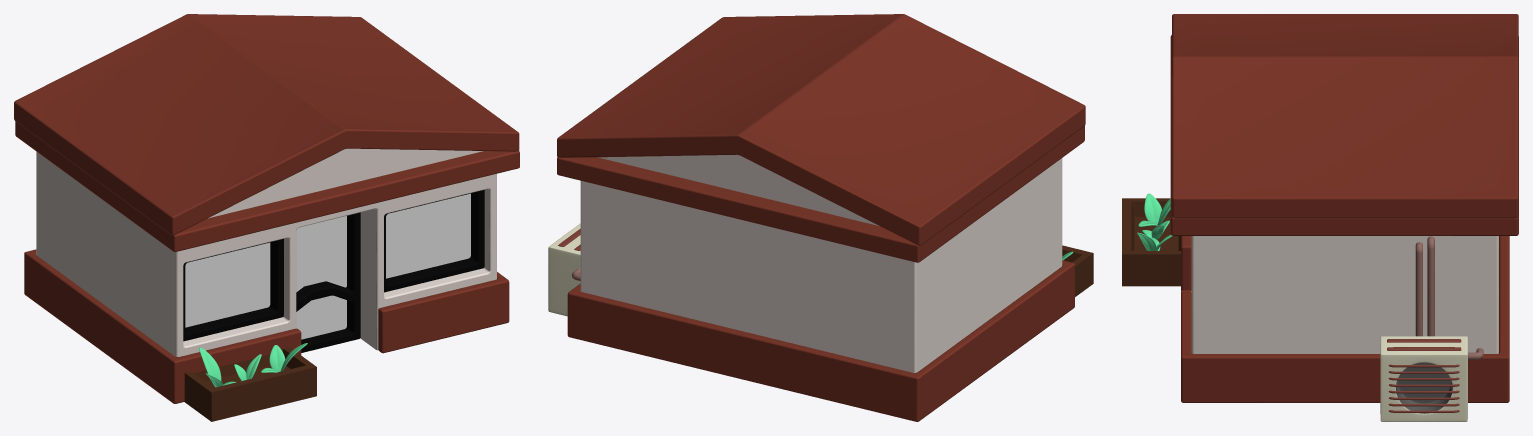
The model's file is Home2.fbx.
3 views of the same model, side by side, from view 1: azimuth 30°, elevation 25°; view 2: azimuth 150°, elevation 25°; view 3: azimuth 270°, elevation 25° (orthographic). The views are drawn at different scales.
Parts seen in each view (by area): view 1: Plane.005, Home, Plane.008, Plane.003, Pot, Plane.006, Plane.007, Grass; view 2: Plane.005, Home, Plane.008, Plane.003, Comair, Pot; view 3: Plane.005, Home, Plane.008, Plane.003, Comair, Pot, pipe, Plane.011, Grass.
Boxes of the visible parts, box(x1,y1,x2,y2) form: Plane.005: box(14, 14, 519, 235); Home: box(36, 148, 496, 356); Plane.008: box(24, 249, 509, 403); Plane.003: box(15, 121, 519, 251); Pot: box(184, 347, 316, 421); Plane.006: box(183, 190, 484, 341); Plane.007: box(296, 212, 360, 352); Grass: box(199, 343, 307, 387); Plane.005: box(557, 14, 1085, 245); Home: box(580, 154, 1062, 372); Plane.008: box(567, 260, 1074, 421); Plane.003: box(557, 126, 1084, 262); Comair: box(548, 223, 580, 316); Pot: box(1062, 245, 1093, 296); Plane.005: box(1172, 14, 1518, 218); Home: box(1191, 236, 1498, 353); Plane.008: box(1181, 236, 1509, 402); Plane.003: box(1170, 35, 1518, 235); Comair: box(1380, 336, 1467, 421); Pot: box(1122, 198, 1180, 286); pipe: box(1415, 236, 1483, 359); Plane.011: box(1388, 364, 1459, 412); Grass: box(1137, 193, 1172, 250).
Bounding box in the file's own units: 722 × 429 × 598.
